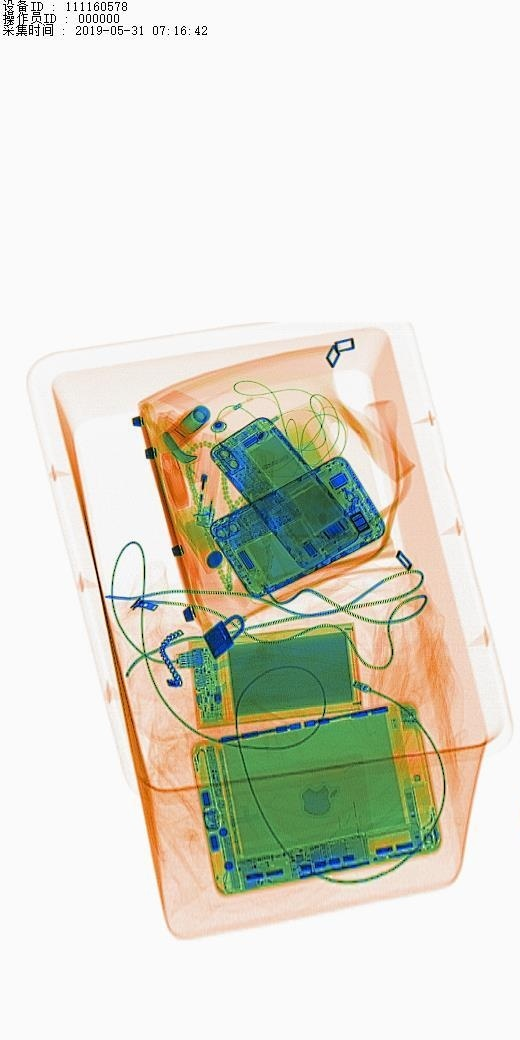NonmetallicFire: (182, 423, 230, 532)
